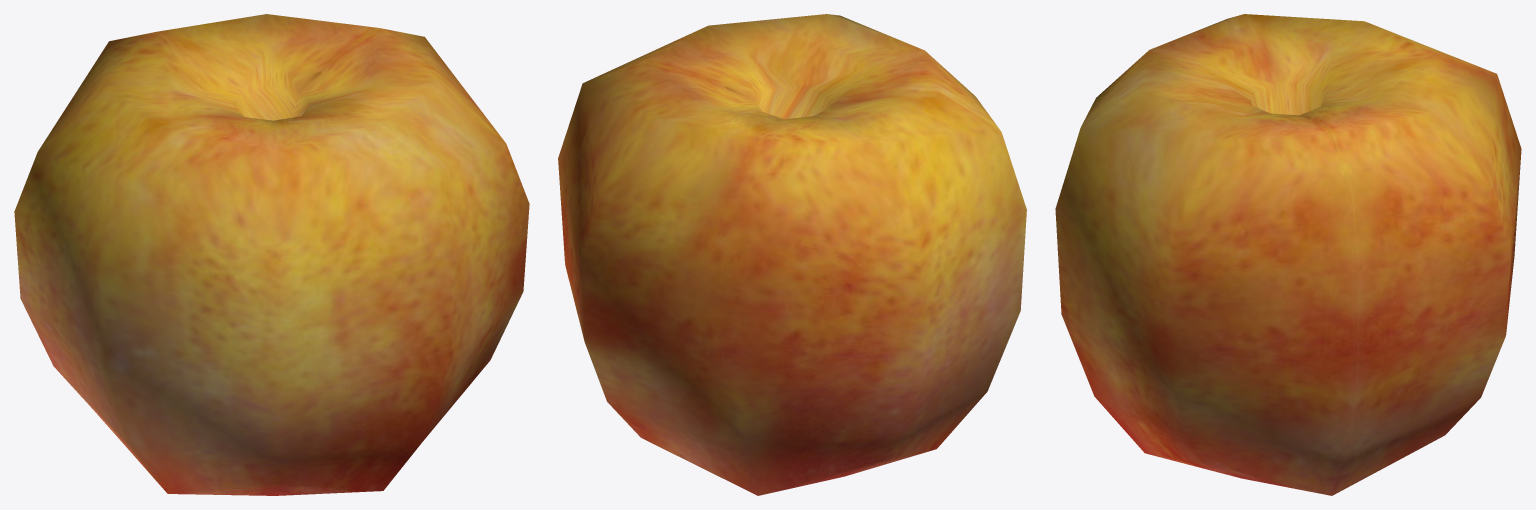
Rendered from m_apple001.FBX.
3 renders of one model, left to right at view 1: azimuth 30°, elevation 25°; view 2: azimuth 150°, elevation 25°; view 3: azimuth 270°, elevation 25°, orthographic. The views are drawn at different scales.
Visible parts, largest first — view 1: m_apple001; view 2: m_apple001; view 3: m_apple001.
Part boxes in pixels (<box>): m_apple001: <box>14,14,529,495</box>; m_apple001: <box>558,14,1026,495</box>; m_apple001: <box>1055,14,1521,495</box>.
Size of the model in its own units: 42.04 by 37.11 by 41.97.
Materials: 1 (1 with a texture image).
